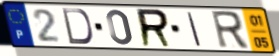0: (105, 9, 134, 47)
2: (33, 7, 63, 43)
D: (61, 7, 95, 46)
I: (186, 11, 204, 48)
R: (209, 10, 251, 51), (135, 7, 174, 49)
